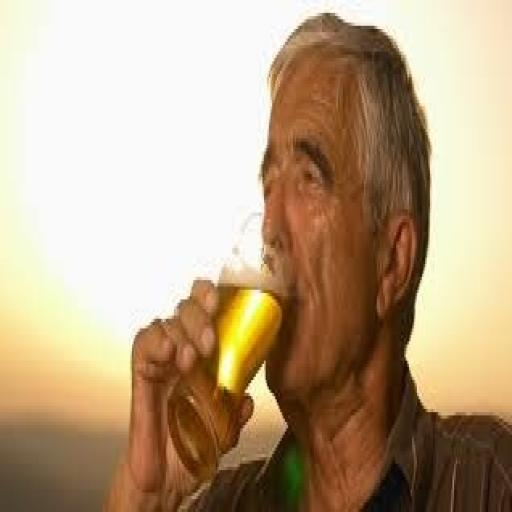drinking: (166, 277, 283, 480)
